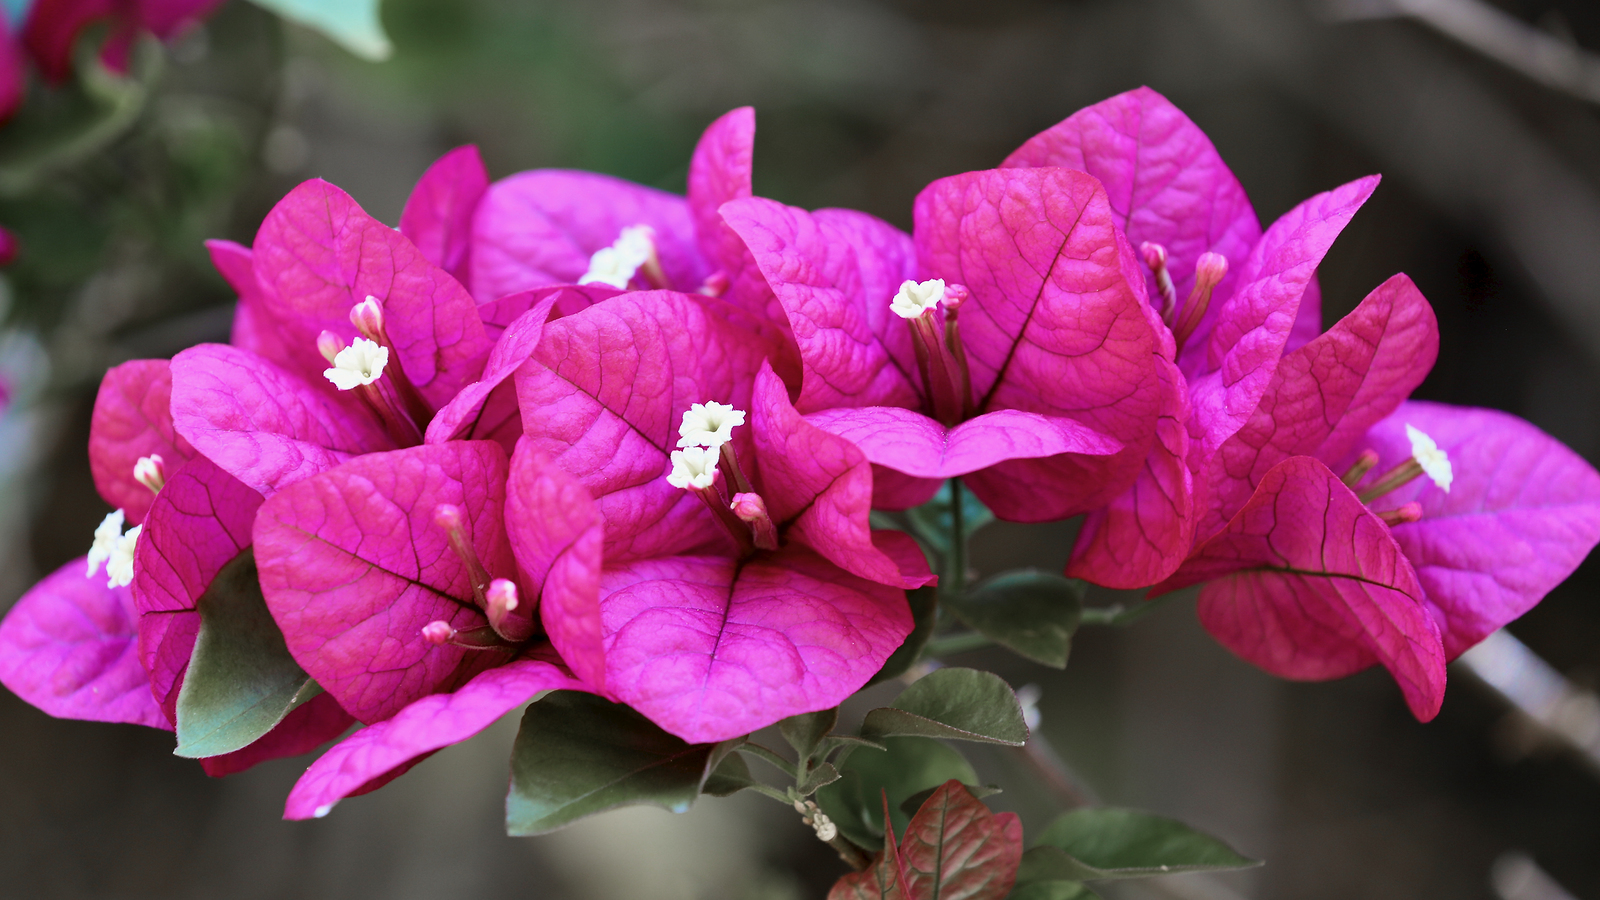bougainvillea: (511, 297, 902, 738), (277, 437, 587, 812), (174, 195, 553, 467), (805, 173, 1125, 478), (4, 365, 249, 756), (1260, 278, 1453, 712)
